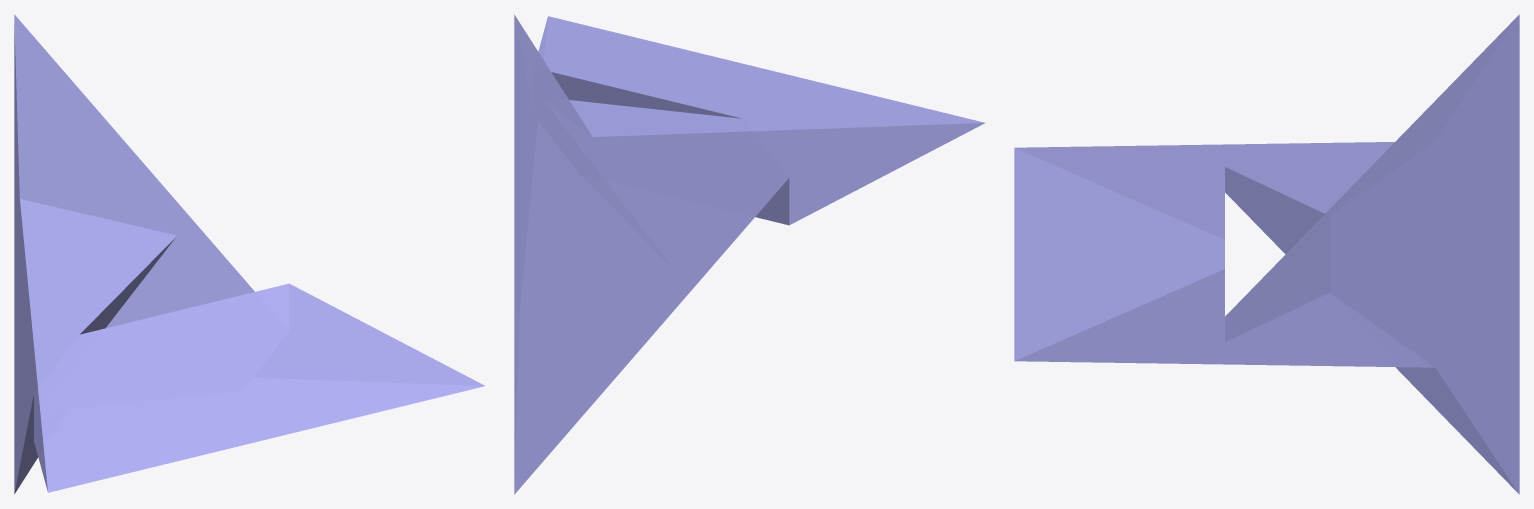
Rendered from Szilassi.obj.
The picture shows the model from 3 angles, left to right: view 1: azimuth 30°, elevation 25°; view 2: azimuth 150°, elevation 25°; view 3: azimuth 270°, elevation 25°; orthographic projection.
Size of the model in its own units: 24 by 25.2 by 24.
